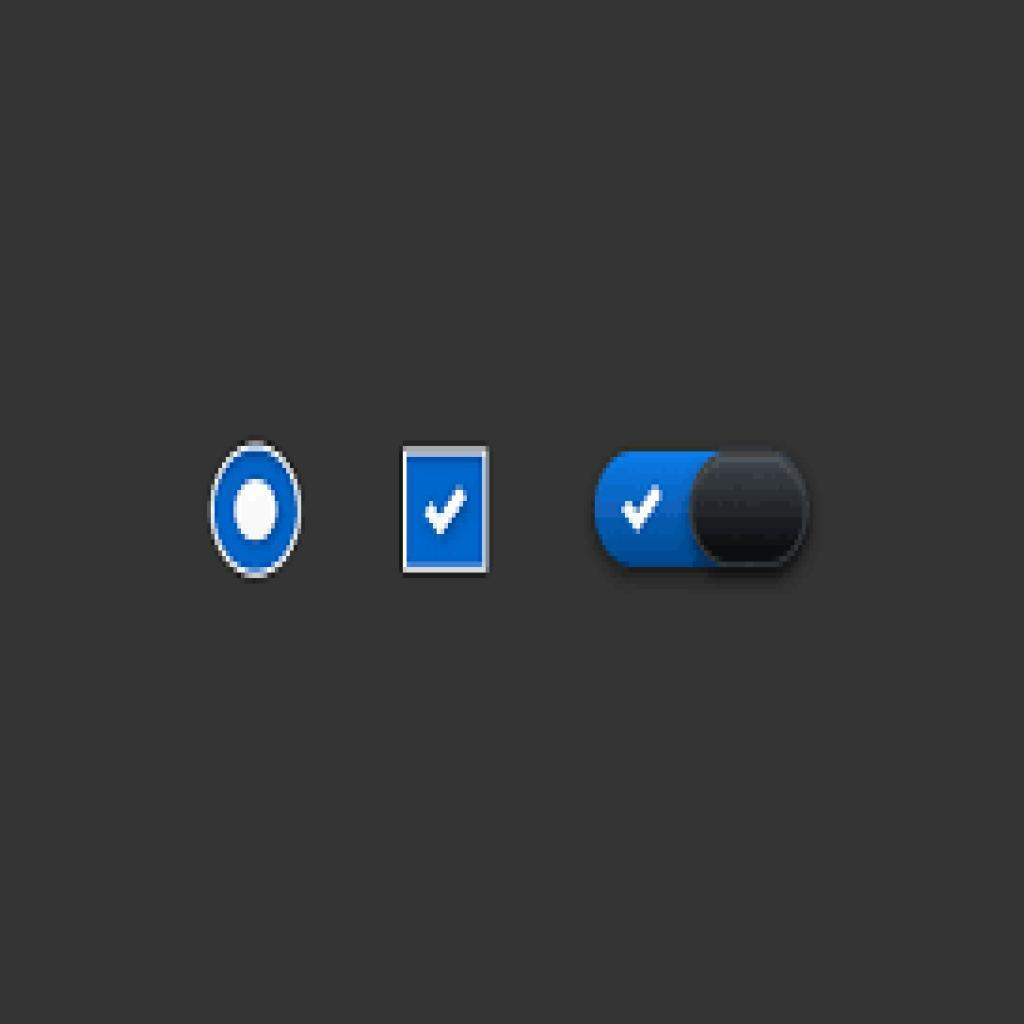checkbox: (403, 445, 492, 575)
radio: (210, 441, 305, 582)
switch: (594, 453, 810, 573)
